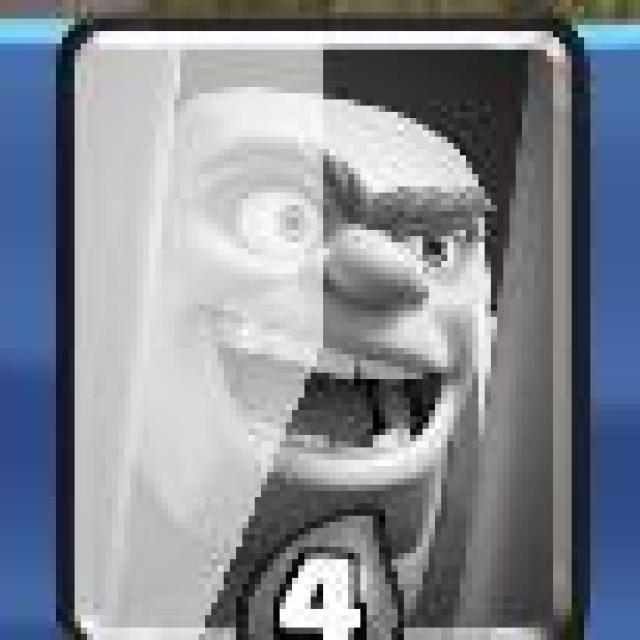Goblin_Cage: (57, 12, 587, 640)
